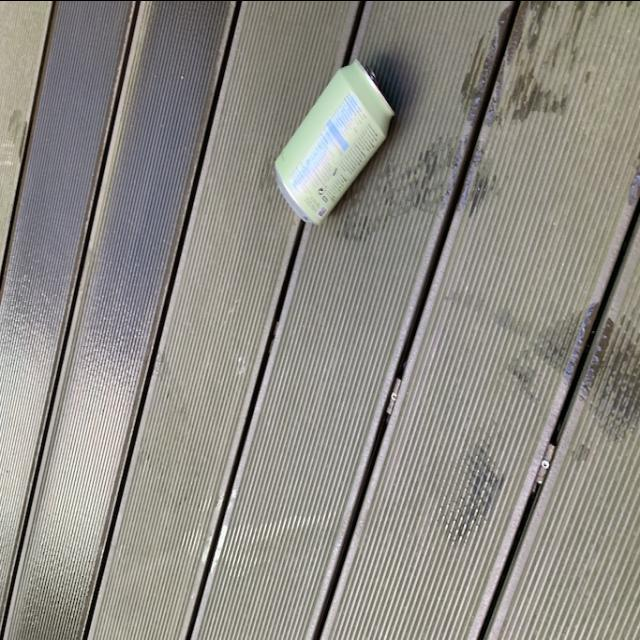Aluminum Can: (272, 60, 405, 232)
